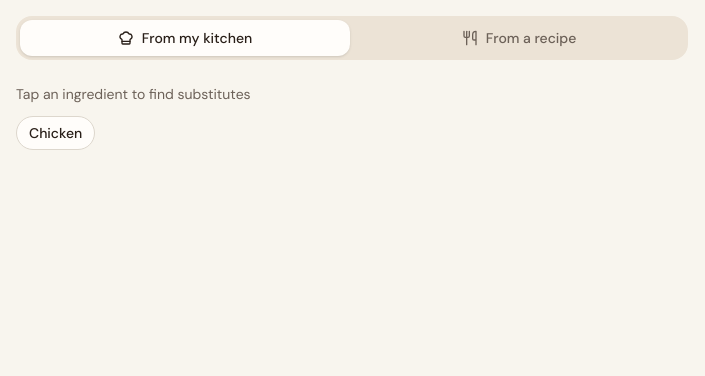
Test: SubstitutesScreen — full-recipe character counter › updates the counter as text is typed
This screenshot has width=705, height=376.
Click the button "From a recipe".
click(519, 38)  # box [354,20,684,56]
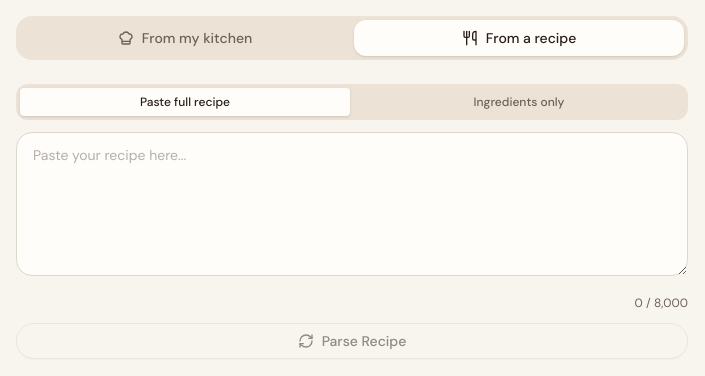
Type "hello world" into the text box.
click(352, 204); type("hello world")  # box [16,132,688,276]
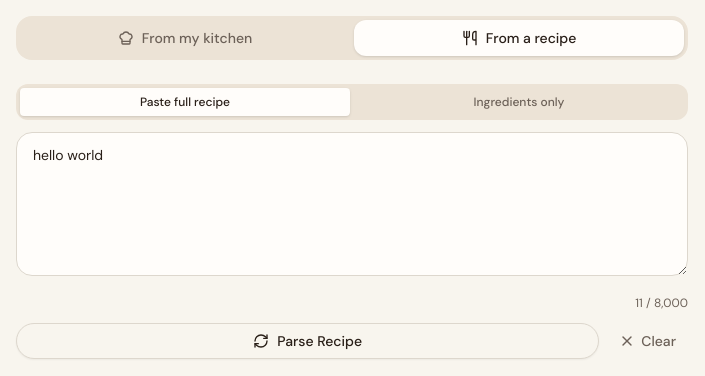
Expected: the text "11 / 8,000" is shown, [635,295,688,311]
